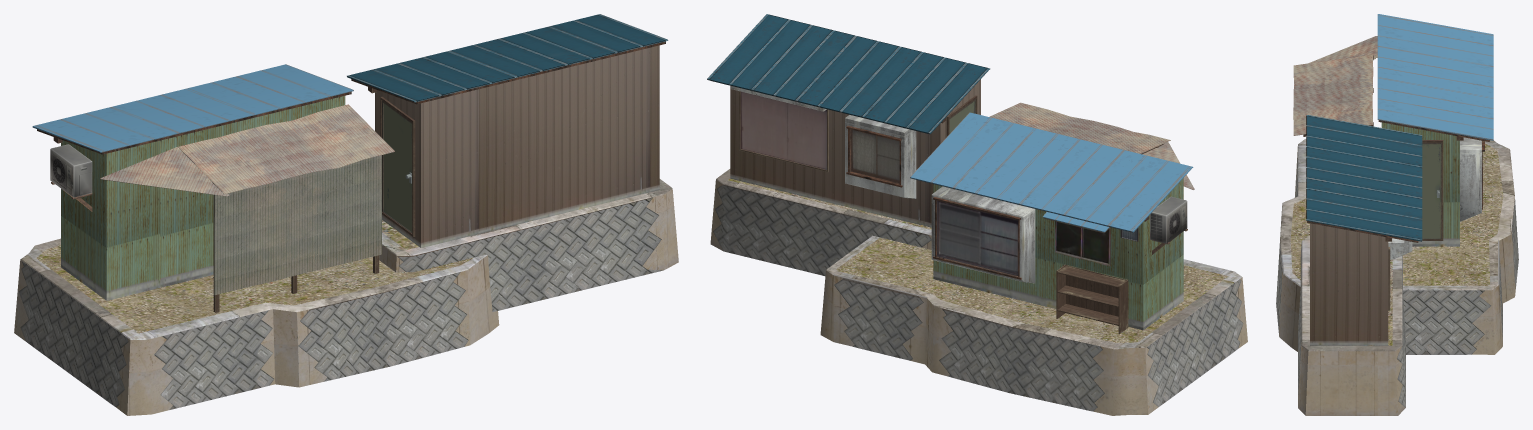
Rendered from houseset20.fbx.
The picture shows the model from 3 angles, left to right: view 1: azimuth 30°, elevation 25°; view 2: azimuth 150°, elevation 25°; view 3: azimuth 270°, elevation 25°; orthographic projection. The views are drawn at different scales.
Parts seen in each view (by area): view 1: houseset20; view 2: houseset20; view 3: houseset20.
Boxes of the visible parts, x1,y1,x2,y2 form: houseset20: (14,14,678,415); houseset20: (707,14,1247,415); houseset20: (1276,14,1518,415).
Size of the model in its own units: 1037 by 462 by 432.
Materials: 15 (15 with a texture image).
